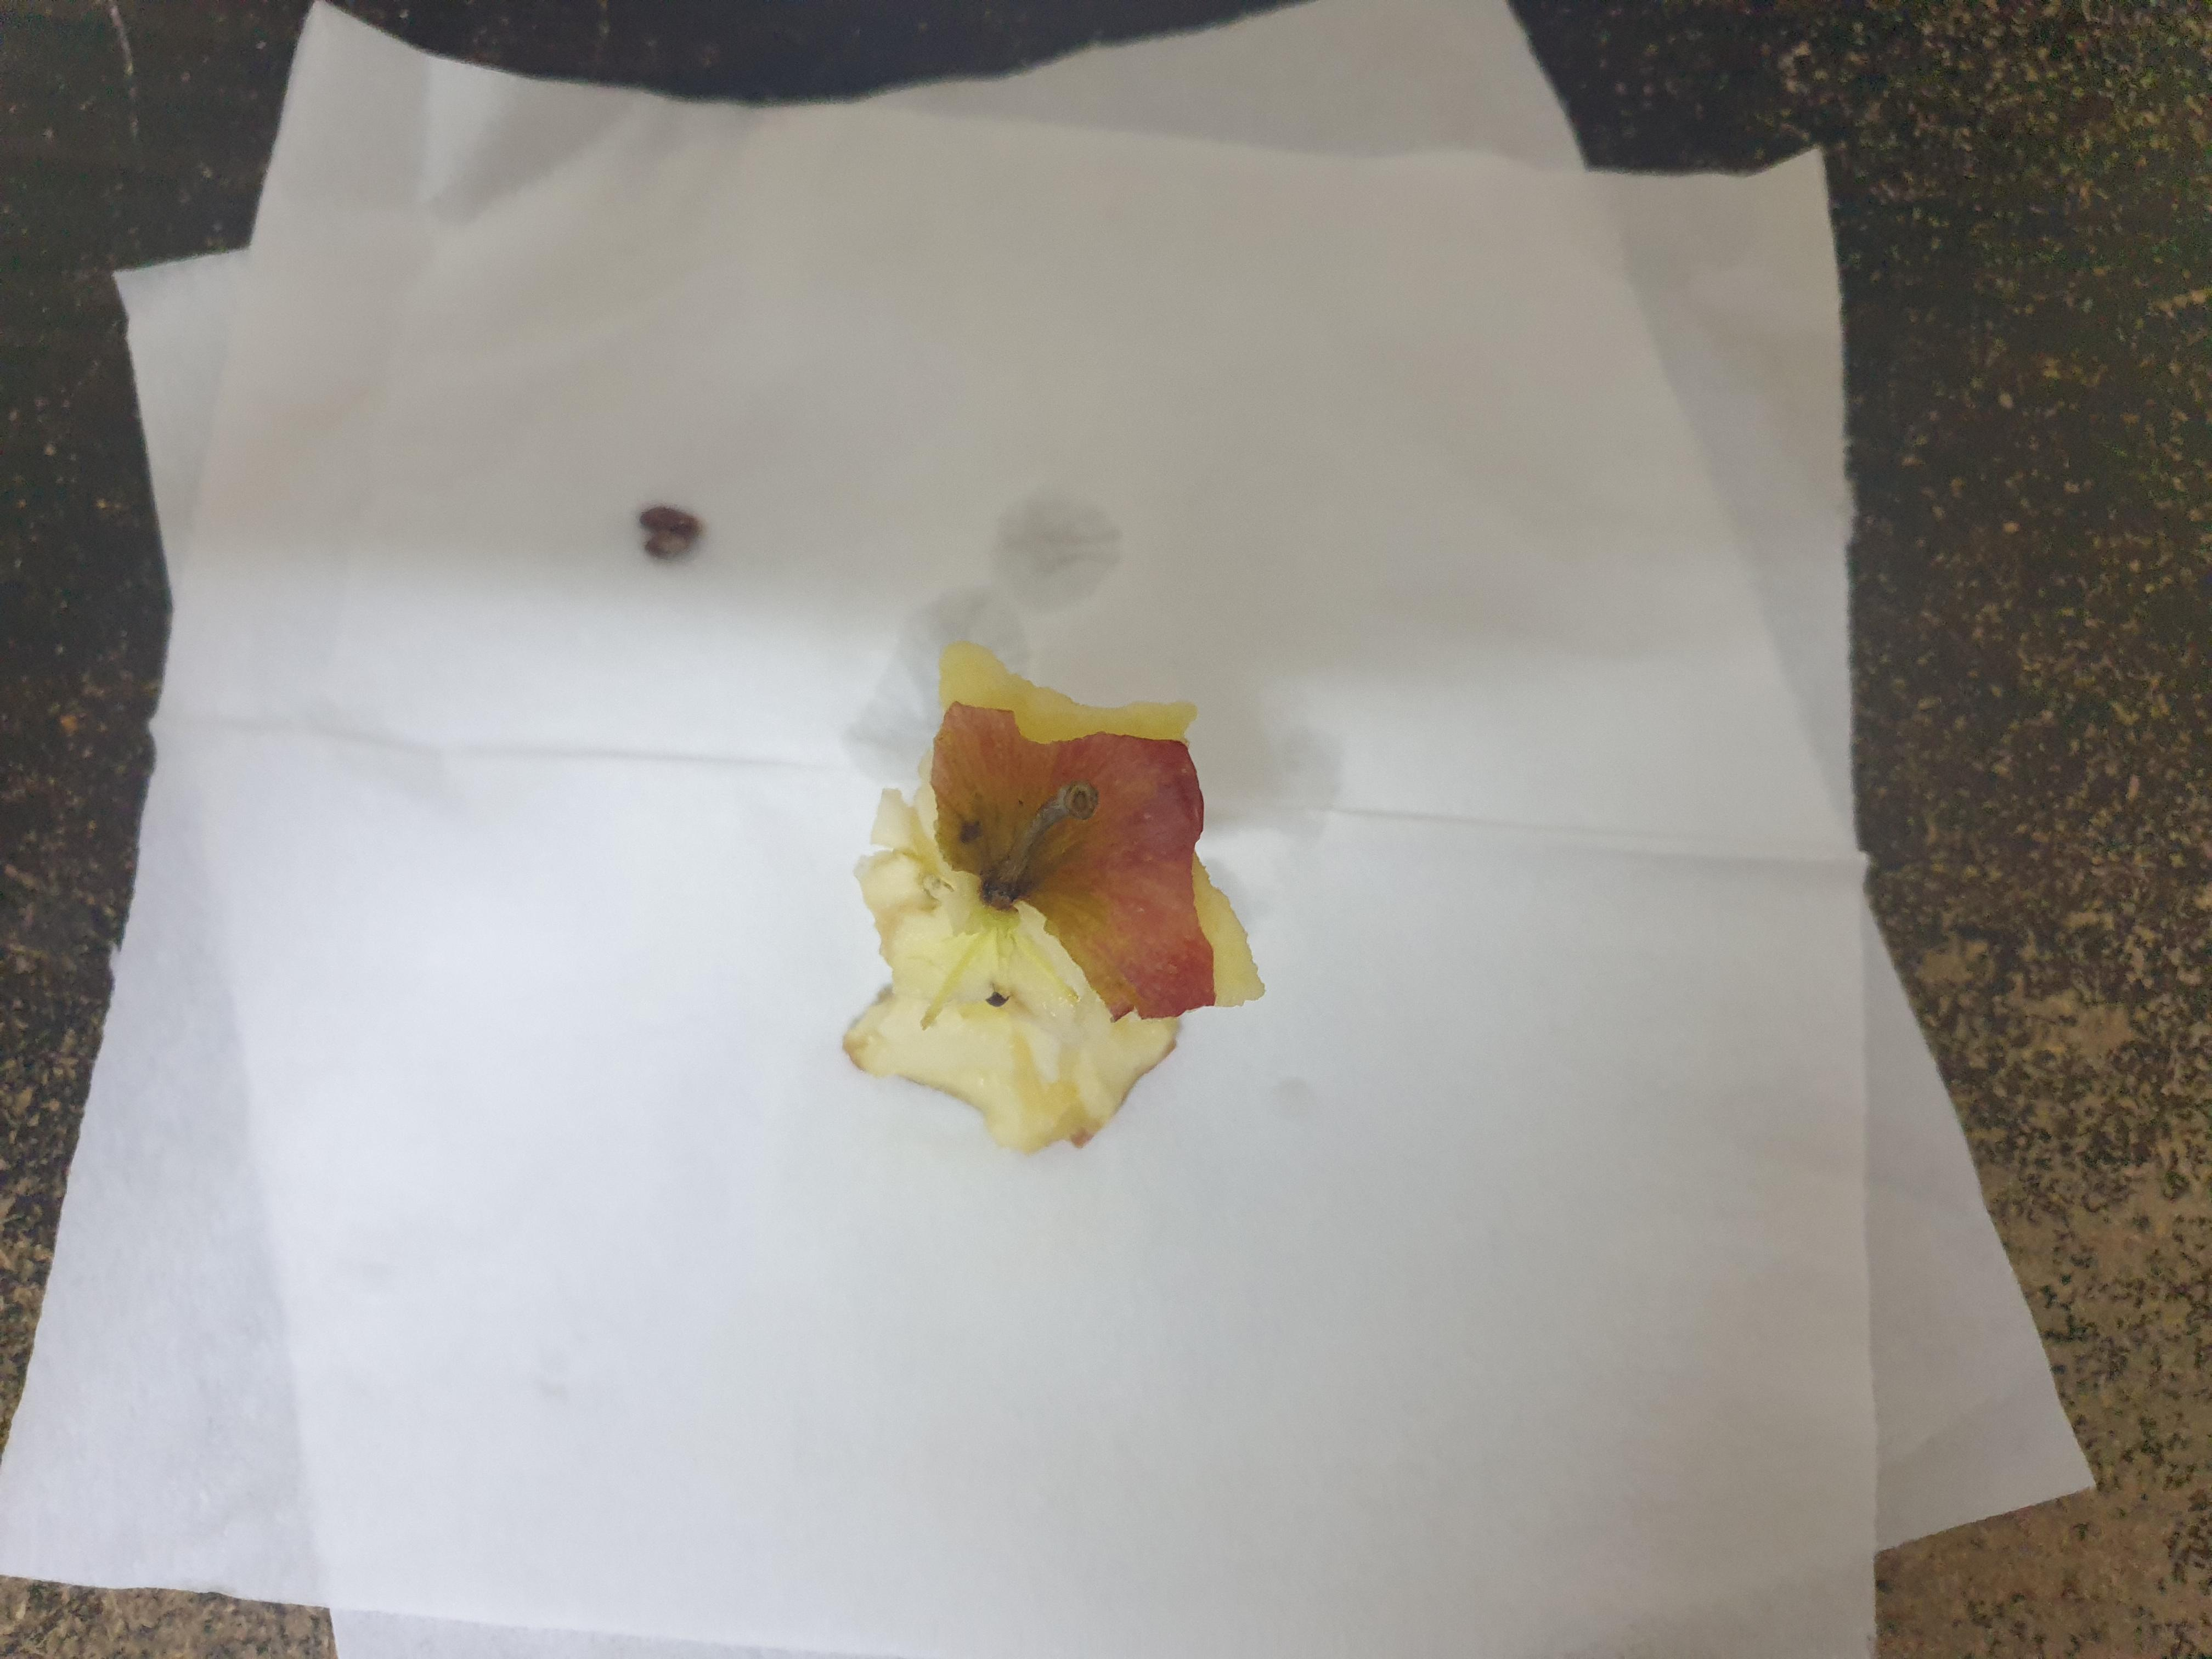Apple: (820, 610, 1320, 1209)
